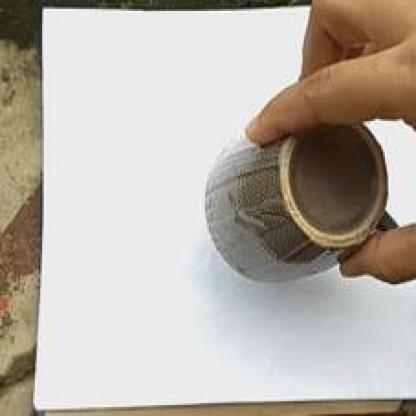mug: (200, 103, 403, 314)
